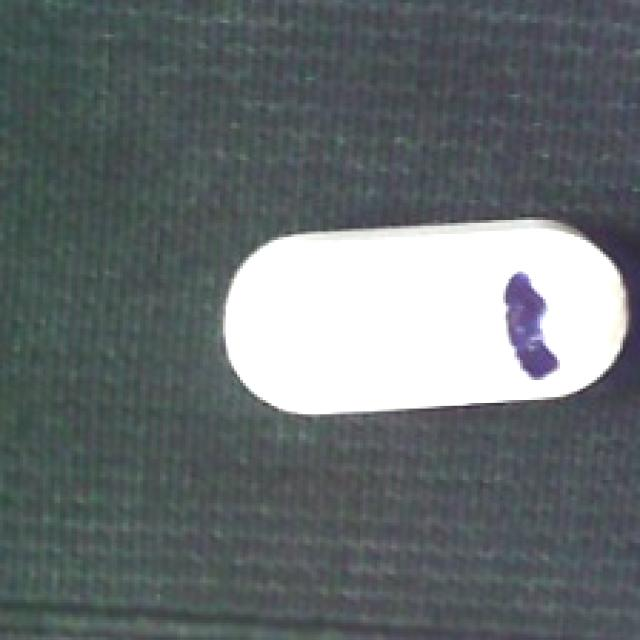defected: (214, 217, 640, 423)
